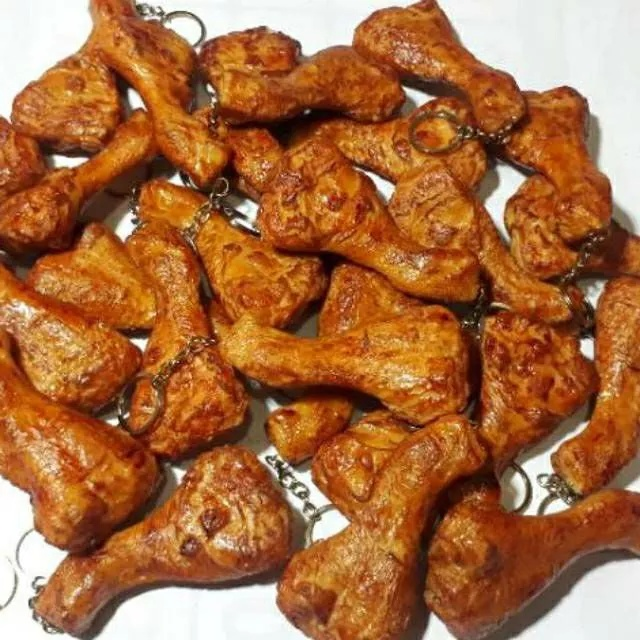ayam_goreng: (255, 129, 493, 305), (216, 303, 475, 427), (121, 228, 245, 453)
